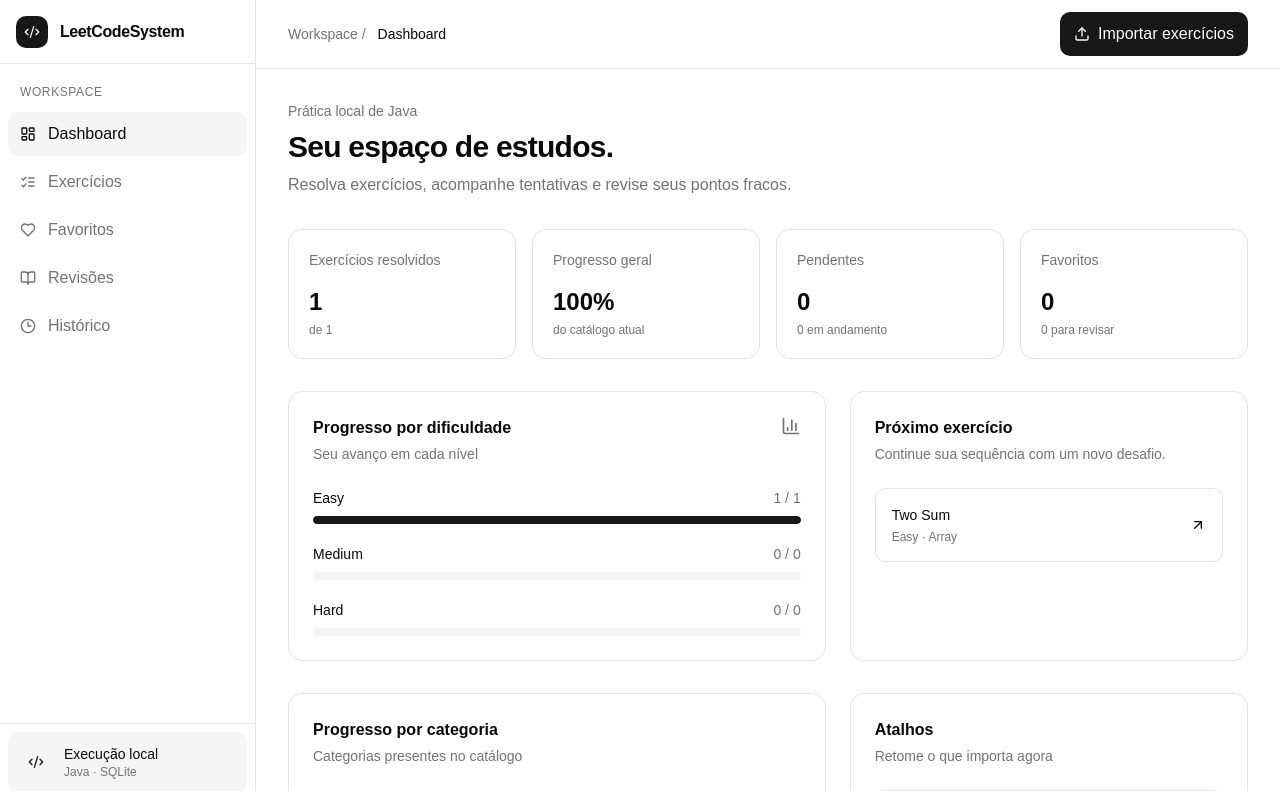
it: Judge integration in the solver › prevents concurrent executions and exposes the pending action
This screenshot has width=1280, height=791.
Later steps or results of the test are not shown.
Expected: the heading "Seu espaço de estudos." is shown, [288,130,613,163]
Click the button "Exercícios". click: (128, 182)
box: [8,160,247,204]
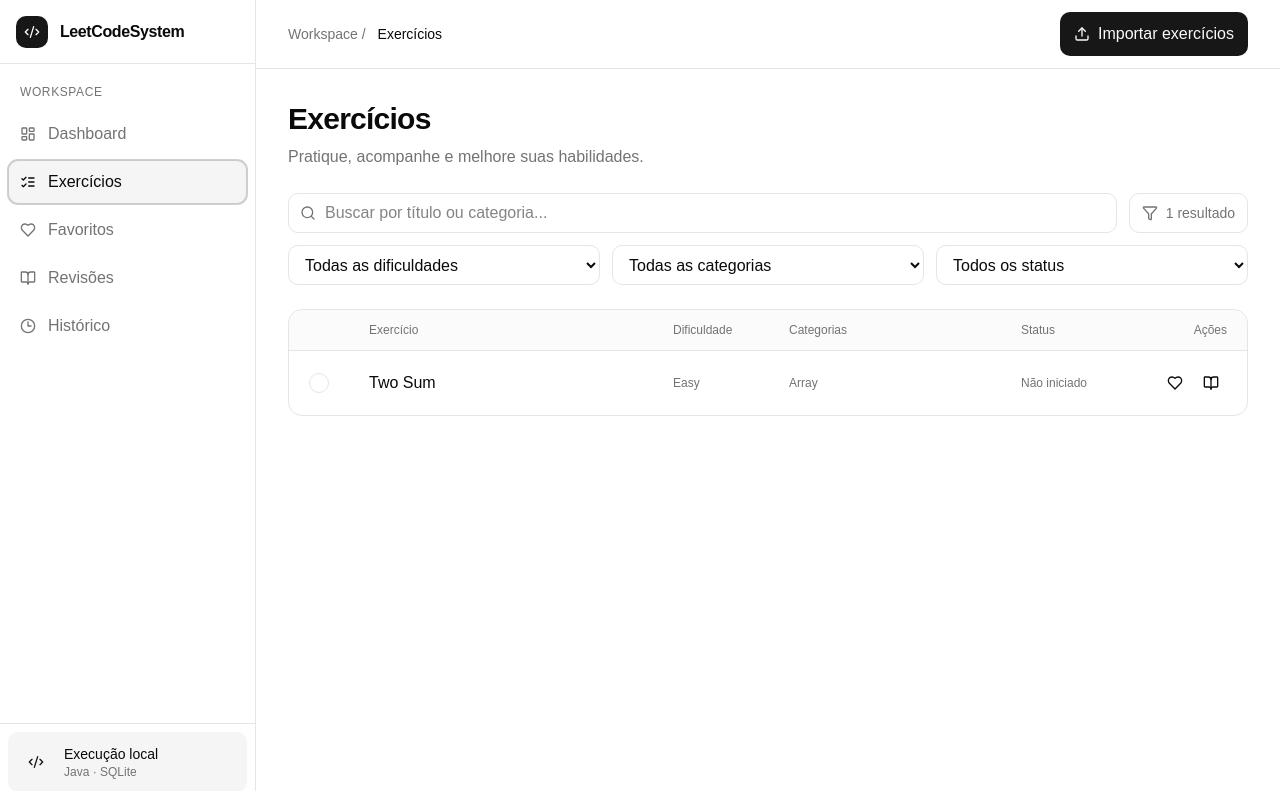
Click the button "Two Sum". click: (402, 382)
box: [369,371,657,395]
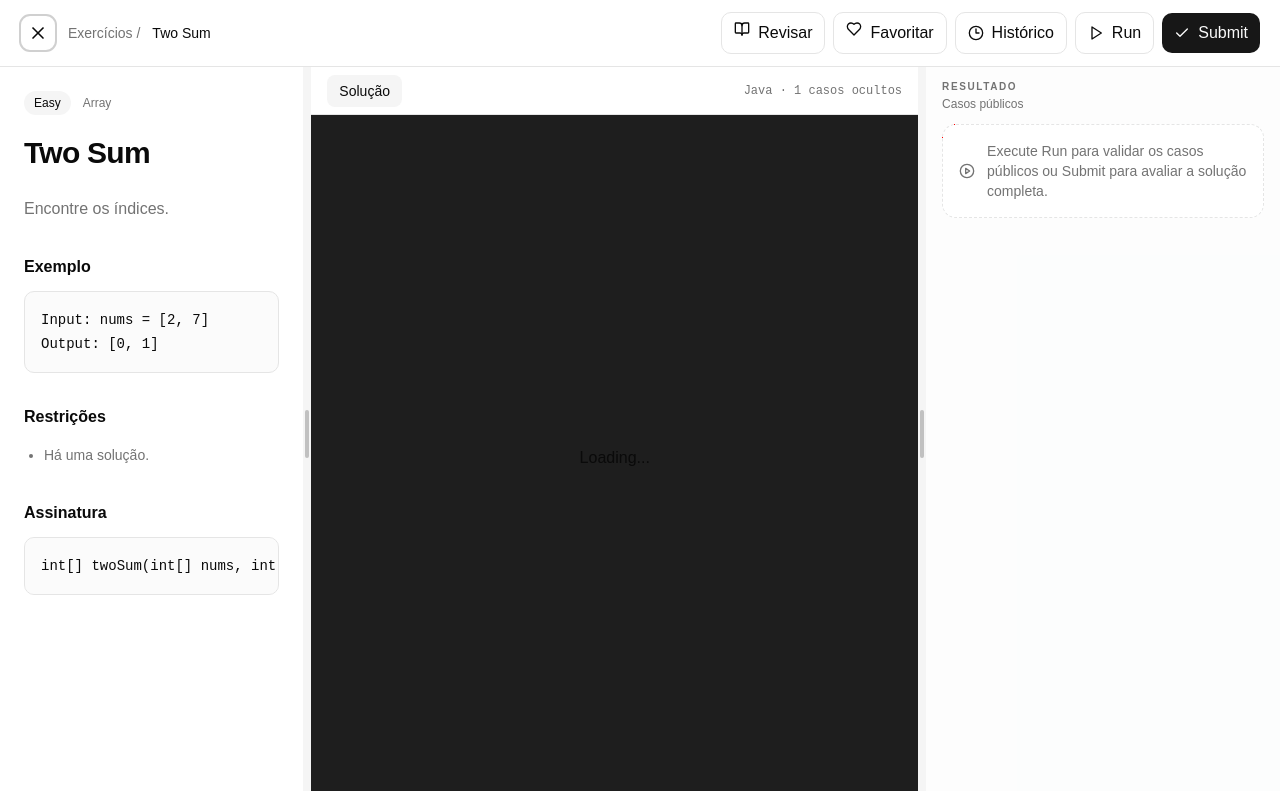
Result: the button "Run" is shown
Click the button "Run". click: (1114, 33)
box: [1075,12,1154,54]
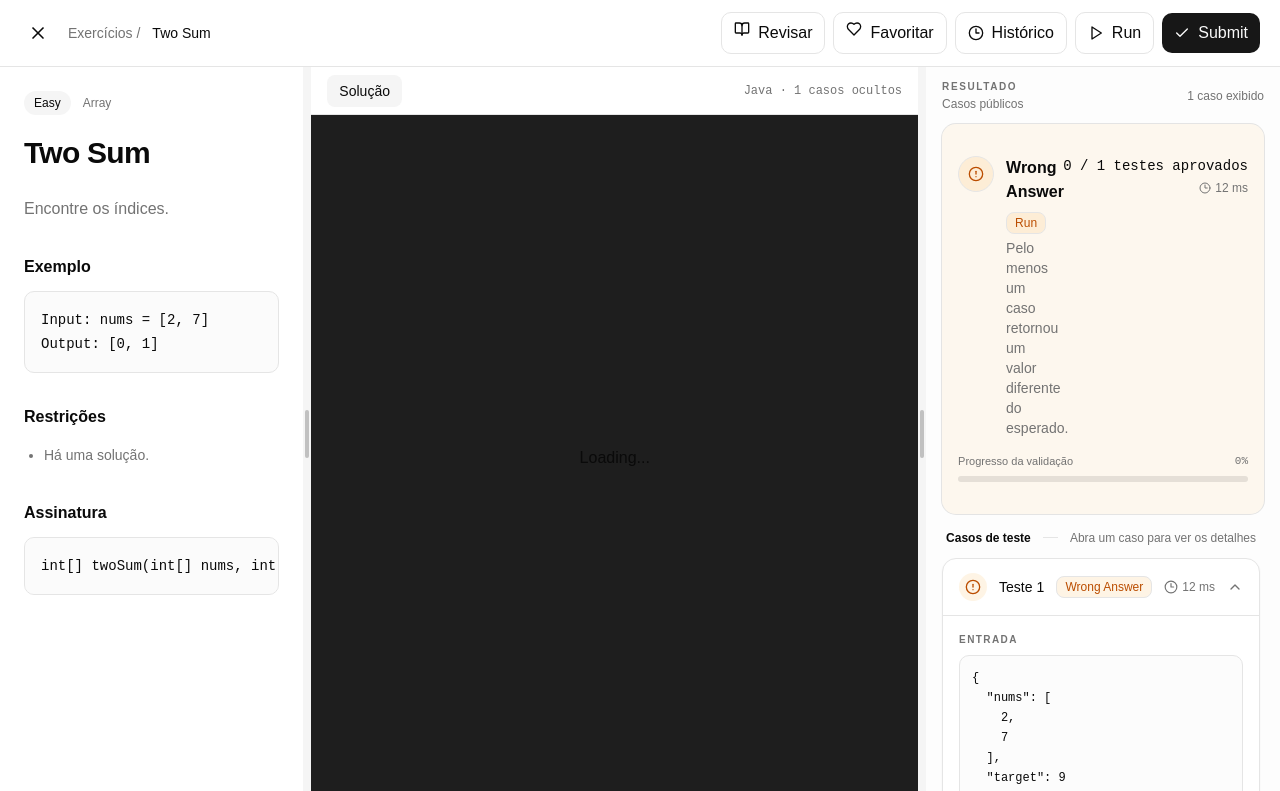
Result: the number of headings "Wrong Answer" is 2 at [1006,156,1064,204]; [1056,576,1152,598]
